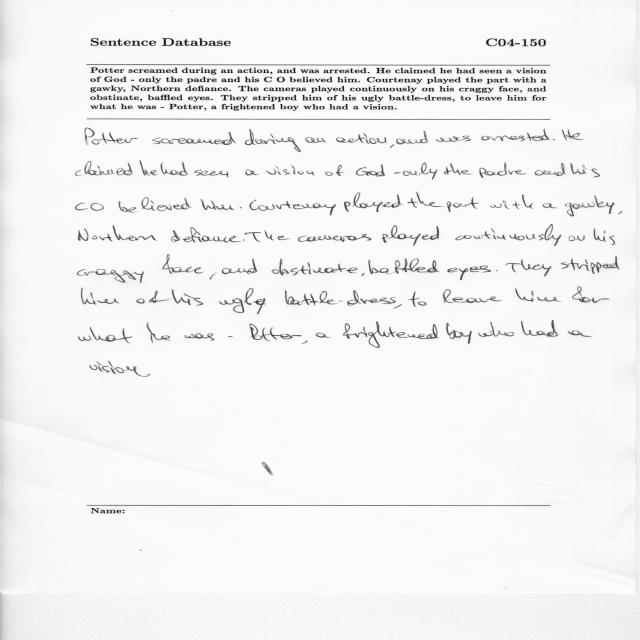word: (343, 321, 438, 348), (455, 224, 562, 246), (285, 290, 402, 309), (271, 259, 358, 276), (79, 225, 157, 242), (249, 200, 336, 215), (245, 129, 301, 152), (381, 225, 439, 246), (220, 288, 266, 314), (118, 197, 192, 213), (152, 131, 236, 145), (368, 258, 440, 274), (344, 193, 403, 212), (171, 227, 241, 243), (565, 196, 615, 217), (561, 256, 619, 274), (250, 323, 302, 341), (78, 269, 144, 283), (149, 289, 203, 306), (85, 128, 138, 145), (78, 327, 132, 343), (76, 161, 133, 176), (162, 254, 204, 274), (481, 129, 550, 141), (443, 289, 502, 303), (506, 260, 552, 277), (479, 162, 526, 178), (447, 266, 491, 281), (82, 288, 120, 305), (572, 286, 610, 303), (490, 195, 533, 210), (515, 288, 561, 302), (521, 320, 558, 337), (298, 234, 371, 242), (403, 163, 437, 180), (408, 192, 444, 208), (336, 133, 387, 144), (244, 230, 290, 242), (446, 323, 472, 344), (478, 322, 514, 337), (222, 259, 257, 274), (266, 165, 315, 175), (147, 323, 170, 344), (447, 197, 478, 212), (90, 361, 124, 374), (396, 131, 429, 144), (571, 163, 601, 177), (535, 163, 565, 176), (161, 162, 188, 176), (356, 164, 385, 177), (201, 199, 234, 210), (594, 228, 615, 245), (444, 163, 472, 175), (194, 170, 229, 178), (125, 366, 150, 377), (140, 161, 158, 176), (75, 202, 104, 211), (410, 292, 427, 307), (562, 130, 584, 141), (185, 333, 215, 341), (325, 165, 345, 176), (436, 136, 471, 142), (568, 331, 592, 337), (305, 137, 326, 143), (568, 236, 585, 242), (245, 170, 259, 176), (316, 333, 331, 338), (543, 203, 557, 208), (136, 299, 145, 304), (210, 273, 216, 279), (302, 340, 308, 344), (390, 145, 394, 149), (394, 172, 401, 174), (618, 211, 622, 214), (361, 273, 364, 276), (228, 337, 233, 338), (243, 239, 245, 241), (553, 139, 555, 140), (240, 207, 242, 208), (496, 270, 498, 271), (409, 299, 410, 300)
